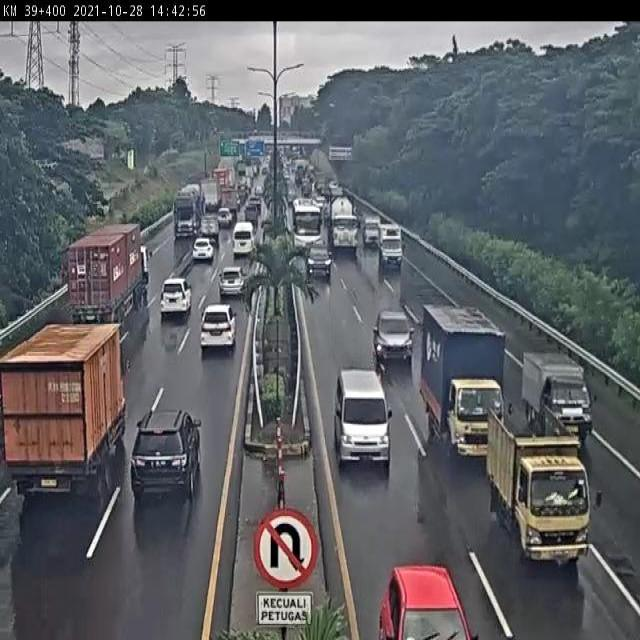big truck: (0, 324, 133, 499), (67, 221, 151, 335)
bus-s-: (334, 367, 393, 473)
car: (131, 407, 204, 505), (371, 311, 415, 368), (200, 304, 238, 355), (304, 243, 333, 284), (162, 276, 191, 316), (232, 222, 255, 258), (221, 267, 246, 297), (194, 238, 216, 266)
truck-m-: (488, 403, 601, 568), (422, 305, 513, 467)
truck-s-: (522, 349, 593, 447), (379, 220, 405, 265)
